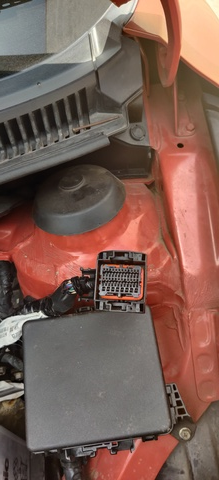connector: (94, 250, 147, 314)
